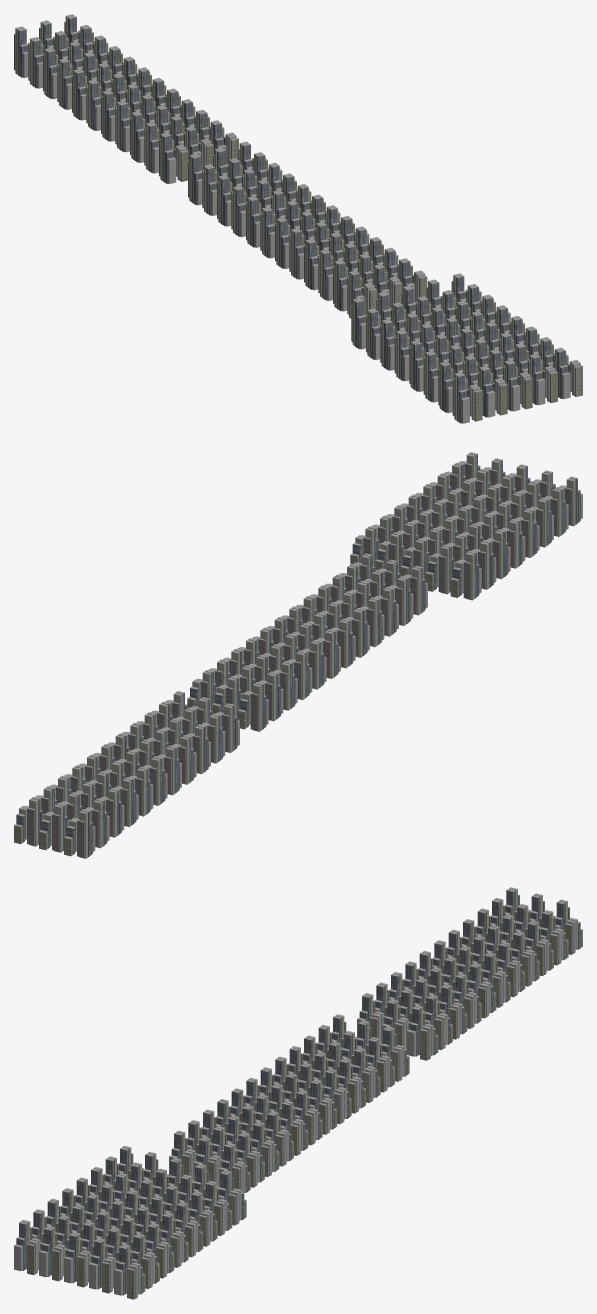
The model's file is map3.obj.
3 renders of one model, top to bottom at view 1: azimuth 30°, elevation 25°; view 2: azimuth 150°, elevation 25°; view 3: azimuth 330°, elevation 25°, orthographic.
Parts seen in each view (by area): view 1: batiments.031_Cube.1242_Cube.047, batiments.784_Cube.1242_Cube.047, batiments.439_Cube.1242_Cube.047, batiments.087_Cube.1242_Cube.047, batiments.295_Cube.1242_Cube.047, batiments.006_Cube.1242_Cube.047, batiments.1006_Cube.1242_Cube.047, batiments.187_Cube.1242_Cube.047, batiments.072_Cube.1242_Cube.047, batiments.785_Cube.1242_Cube.047, batiments.1005_Cube.1242_Cube.047, batiments.603_Cube.1242_Cube.047 (+27 smaller); view 2: batiments.345_Cube.1242_Cube.047, batiments.394_Cube.1242_Cube.047, batiments.385_Cube.1242_Cube.047, batiments.489_Cube.1242_Cube.047, batiments.137_Cube.1242_Cube.047, batiments.863_Cube.1242_Cube.047, batiments.917_Cube.1242_Cube.047, batiments.916_Cube.1242_Cube.047, batiments.429_Cube.1242_Cube.047, batiments.828_Cube.1242_Cube.047, batiments.072_Cube.1242_Cube.047, batiments.186_Cube.1242_Cube.047 (+27 smaller); view 3: batiments.785_Cube.1242_Cube.047, batiments.006_Cube.1242_Cube.047, batiments.295_Cube.1242_Cube.047, batiments.031_Cube.1242_Cube.047, batiments.087_Cube.1242_Cube.047, batiments.439_Cube.1242_Cube.047, batiments.1087_Cube.1242_Cube.047, batiments.047_Cube.1242_Cube.047, batiments.593_Cube.1242_Cube.047, batiments.103_Cube.1242_Cube.047, batiments.573_Cube.1242_Cube.047, batiments.1005_Cube.1242_Cube.047 (+27 smaller).
Part boxes in pixels (bbox=[...]): batiments.031_Cube.1242_Cube.047: bbox=[452, 372, 482, 423]; batiments.784_Cube.1242_Cube.047: bbox=[159, 132, 188, 184]; batiments.439_Cube.1242_Cube.047: bbox=[478, 366, 507, 417]; batiments.087_Cube.1242_Cube.047: bbox=[503, 360, 532, 411]; batiments.295_Cube.1242_Cube.047: bbox=[528, 353, 557, 405]; batiments.006_Cube.1242_Cube.047: bbox=[553, 347, 582, 399]; batiments.1006_Cube.1242_Cube.047: bbox=[347, 270, 377, 318]; batiments.187_Cube.1242_Cube.047: bbox=[423, 351, 453, 402]; batiments.072_Cube.1242_Cube.047: bbox=[394, 329, 424, 381]; batiments.785_Cube.1242_Cube.047: bbox=[209, 120, 238, 164]; batiments.1005_Cube.1242_Cube.047: bbox=[397, 258, 427, 302]; batiments.603_Cube.1242_Cube.047: bbox=[372, 264, 402, 308]; batiments.345_Cube.1242_Cube.047: bbox=[64, 809, 95, 858]; batiments.394_Cube.1242_Cube.047: bbox=[450, 550, 481, 600]; batiments.385_Cube.1242_Cube.047: bbox=[237, 682, 268, 731]; batiments.489_Cube.1242_Cube.047: bbox=[14, 797, 43, 846]; batiments.137_Cube.1242_Cube.047: bbox=[39, 803, 68, 852]; batiments.863_Cube.1242_Cube.047: bbox=[425, 544, 455, 594]; batiments.917_Cube.1242_Cube.047: bbox=[258, 671, 283, 721]; batiments.916_Cube.1242_Cube.047: bbox=[287, 650, 312, 699]; batiments.429_Cube.1242_Cube.047: bbox=[128, 766, 153, 816]; batiments.828_Cube.1242_Cube.047: bbox=[99, 788, 124, 837]; batiments.072_Cube.1242_Cube.047: bbox=[500, 519, 525, 568]; batiments.186_Cube.1242_Cube.047: bbox=[471, 540, 496, 589]; batiments.785_Cube.1242_Cube.047: bbox=[407, 1005, 438, 1060]; batiments.006_Cube.1242_Cube.047: bbox=[114, 1244, 145, 1299]; batiments.295_Cube.1242_Cube.047: bbox=[89, 1238, 117, 1293]; batiments.031_Cube.1242_Cube.047: bbox=[14, 1219, 42, 1275]; batiments.087_Cube.1242_Cube.047: bbox=[64, 1232, 92, 1287]; batiments.439_Cube.1242_Cube.047: bbox=[39, 1226, 67, 1281]; batiments.1087_Cube.1242_Cube.047: bbox=[309, 1079, 337, 1134]; batiments.047_Cube.1242_Cube.047: bbox=[175, 1202, 203, 1257]; batiments.593_Cube.1242_Cube.047: bbox=[468, 963, 496, 1018]; batiments.103_Cube.1242_Cube.047: bbox=[204, 1180, 232, 1236]; batiments.573_Cube.1242_Cube.047: bbox=[497, 942, 525, 997]; batiments.1005_Cube.1242_Cube.047: bbox=[219, 1143, 250, 1192].
Bounding box in the file's own units: 17.15 × 6.17 × 117.
20 materials, 10 textured.
